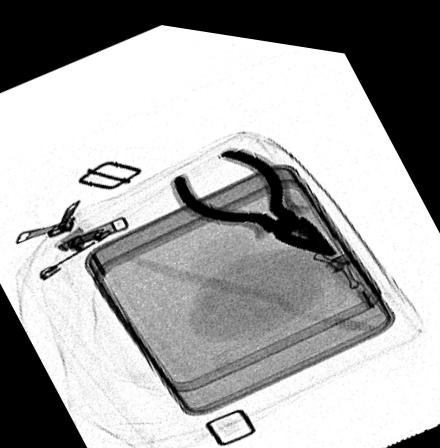Pliers: (172, 141, 340, 244)
